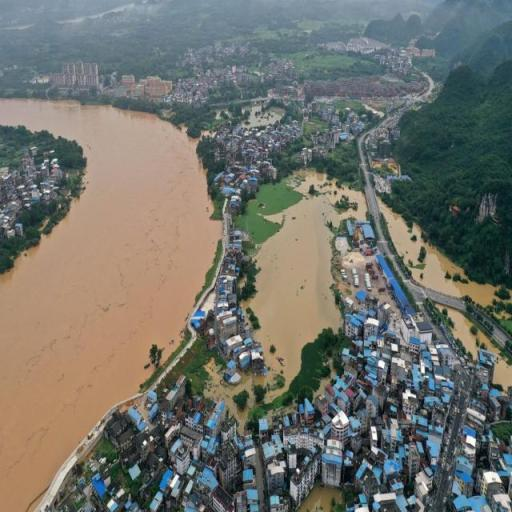flood: (0, 100, 221, 512), (248, 197, 340, 384), (379, 199, 498, 304), (205, 345, 304, 408), (448, 309, 512, 388), (296, 169, 367, 226), (298, 483, 344, 512), (314, 370, 337, 396), (232, 403, 248, 423), (438, 306, 448, 312), (438, 305, 446, 312)
house: (173, 415, 205, 450), (53, 62, 99, 86), (157, 468, 183, 506), (482, 472, 510, 507), (320, 449, 343, 487), (288, 469, 312, 503), (284, 428, 321, 450), (234, 485, 261, 512), (210, 482, 234, 512), (492, 357, 512, 393), (132, 78, 172, 96), (352, 218, 379, 244), (216, 308, 239, 335), (264, 461, 286, 488), (208, 401, 226, 434), (240, 349, 262, 374), (220, 452, 238, 482), (413, 472, 432, 500), (223, 334, 245, 358), (372, 492, 398, 512), (332, 413, 350, 441), (356, 466, 378, 488), (346, 312, 364, 337), (300, 394, 317, 420), (367, 426, 386, 448), (400, 388, 416, 414), (450, 496, 477, 511), (402, 454, 422, 474), (439, 346, 455, 368), (240, 466, 258, 484), (363, 316, 379, 336), (365, 396, 379, 418), (257, 413, 270, 434), (267, 494, 283, 511), (384, 458, 400, 474), (408, 337, 422, 355), (384, 399, 397, 418), (382, 329, 398, 344), (392, 356, 408, 371), (353, 288, 367, 304)
